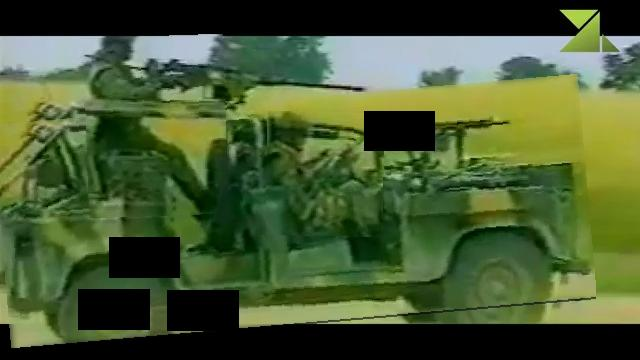MIL_HMMWV: (0, 87, 591, 338), (84, 35, 228, 217), (266, 112, 384, 236)
